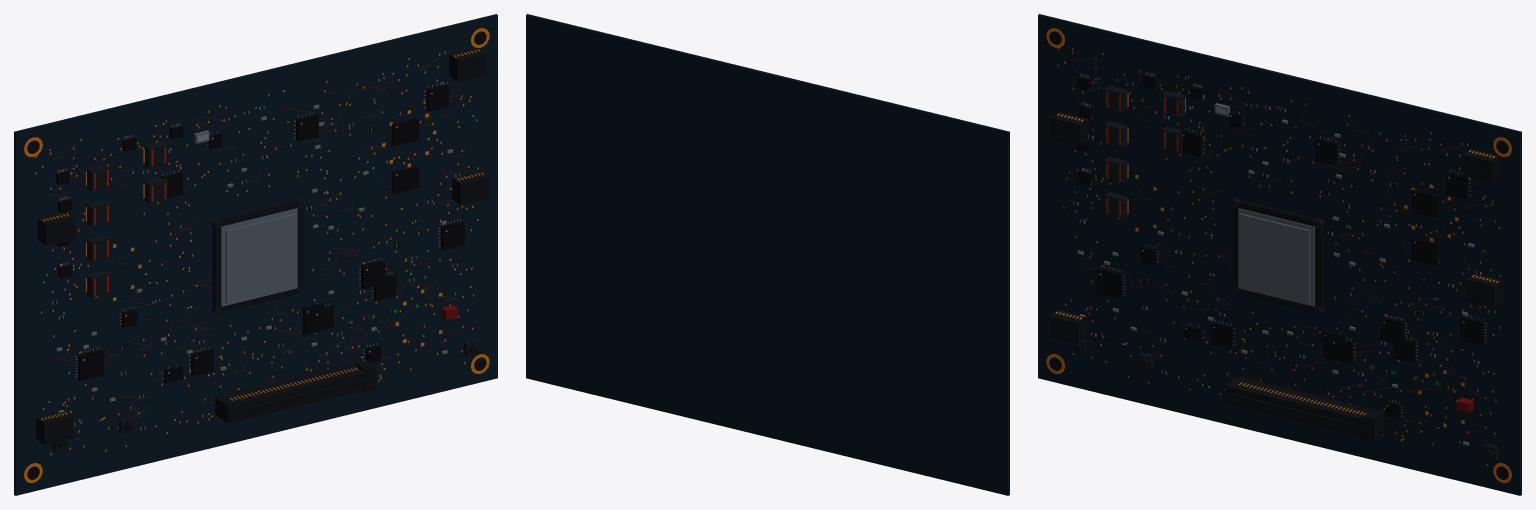
The model's file is L106_SFX14_CompletedVisualReference.obj.
3 renders of one model, left to right at view 1: azimuth 30°, elevation 25°; view 2: azimuth 150°, elevation 25°; view 3: azimuth 330°, elevation 25°, orthographic.
Visible parts, largest first — view 1: PCB, PLASTIC, EPOXY, ALUMINUM, DARK_METAL, GOLD, COPPER, BLACK, SOLDER; view 2: PCB; view 3: PCB, PLASTIC, EPOXY, ALUMINUM, DARK_METAL, GOLD, COPPER, BLACK, SOLDER.
Part boxes in pixels (x1=…): PCB: x1=14, y1=14, x2=497, y2=495; PLASTIC: x1=36, y1=47, x2=489, y2=444; EPOXY: x1=56, y1=84, x2=464, y2=383; ALUMINUM: x1=194, y1=130, x2=297, y2=306; DARK_METAL: x1=52, y1=141, x2=478, y2=451; GOLD: x1=24, y1=28, x2=489, y2=482; COPPER: x1=48, y1=56, x2=466, y2=440; BLACK: x1=27, y1=31, x2=486, y2=479; SOLDER: x1=51, y1=82, x2=460, y2=430; PCB: x1=526, y1=14, x2=1009, y2=495; PCB: x1=1038, y1=14, x2=1521, y2=495; PLASTIC: x1=1049, y1=112, x2=1503, y2=441; EPOXY: x1=1076, y1=74, x2=1484, y2=419; ALUMINUM: x1=1214, y1=103, x2=1314, y2=306; DARK_METAL: x1=1072, y1=85, x2=1498, y2=460; GOLD: x1=1046, y1=28, x2=1511, y2=482; COPPER: x1=1071, y1=57, x2=1488, y2=435; BLACK: x1=1049, y1=31, x2=1508, y2=479; SOLDER: x1=1073, y1=72, x2=1486, y2=445.
Bounding box in the file's own units: 0.285 × 0.205 × 0.0156.
